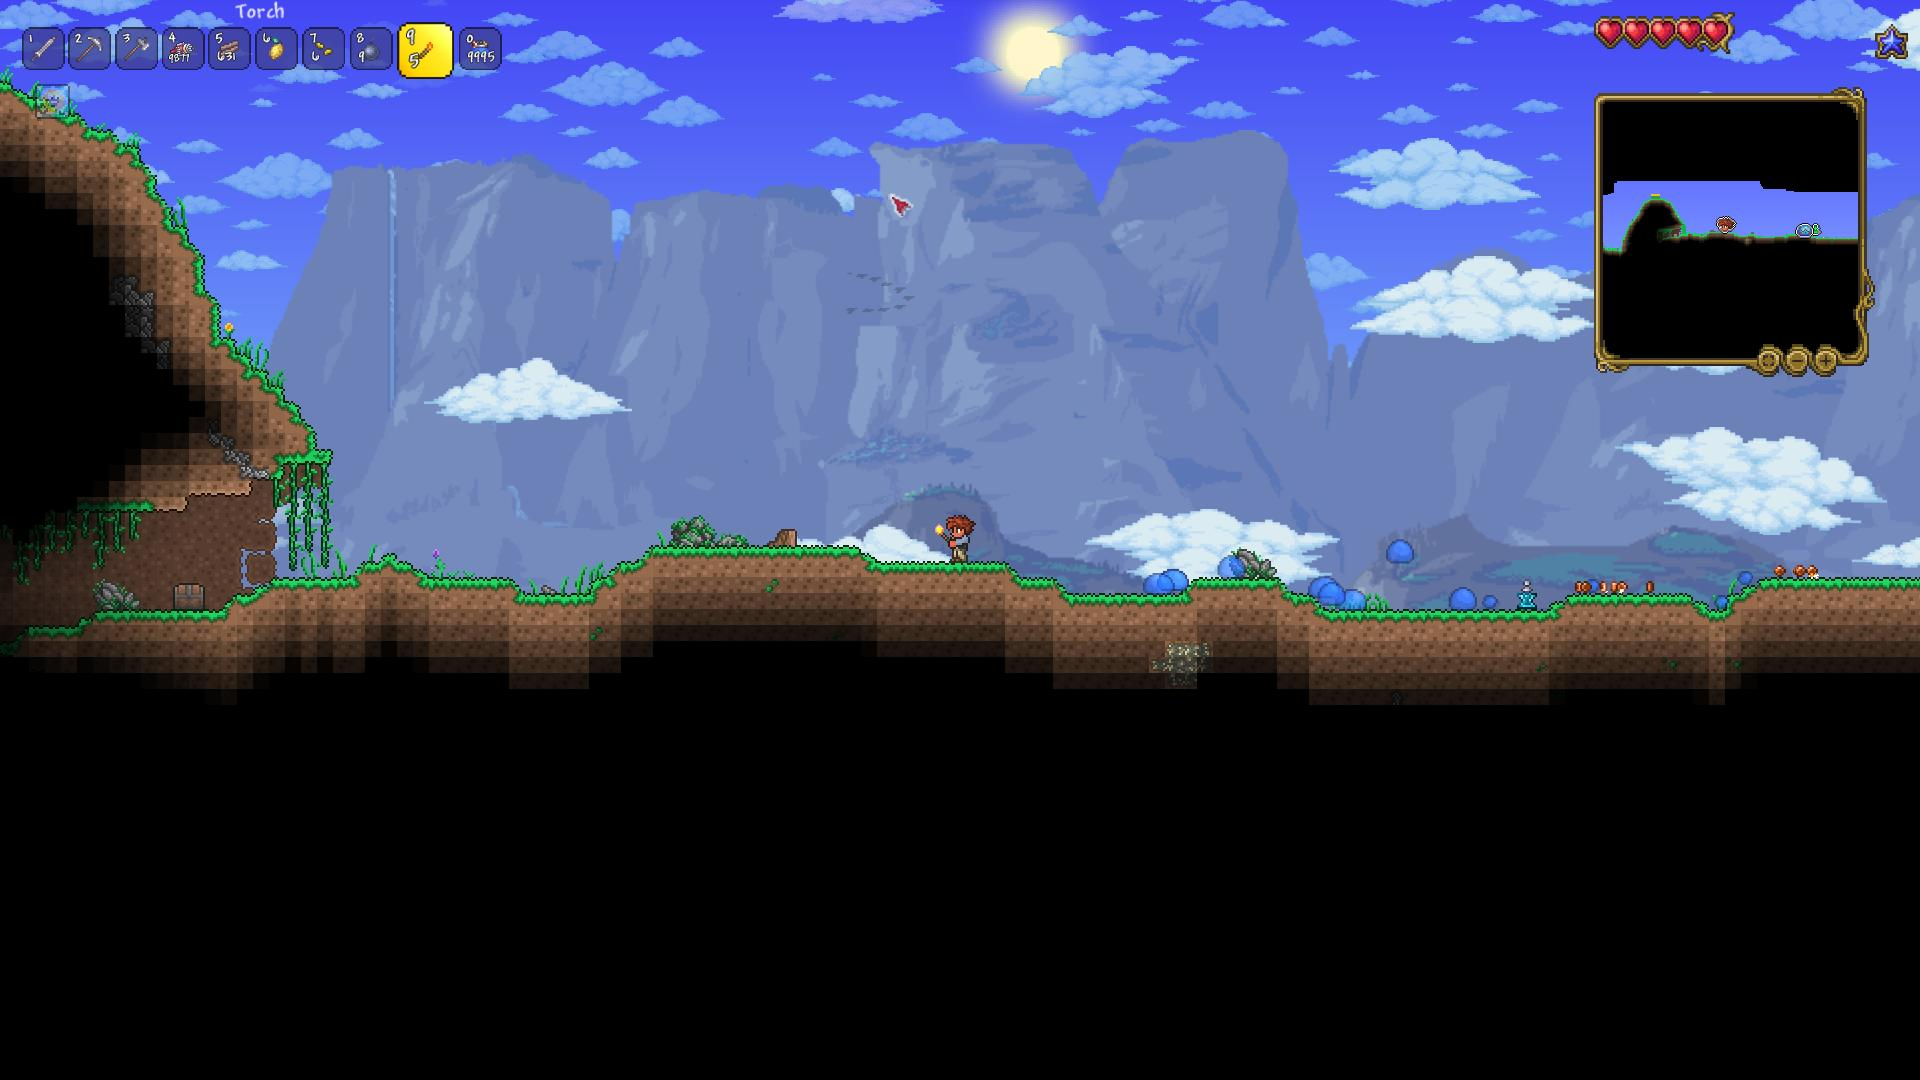slime: (1142, 568, 1191, 597), (1308, 574, 1348, 605), (1385, 537, 1418, 564), (1447, 585, 1477, 612), (1342, 584, 1369, 615), (1216, 553, 1247, 578)
wood: (219, 34, 241, 59)
